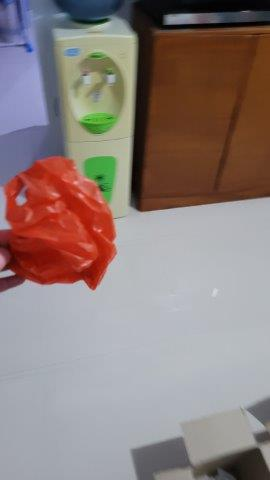plastik: (1, 155, 121, 289)
